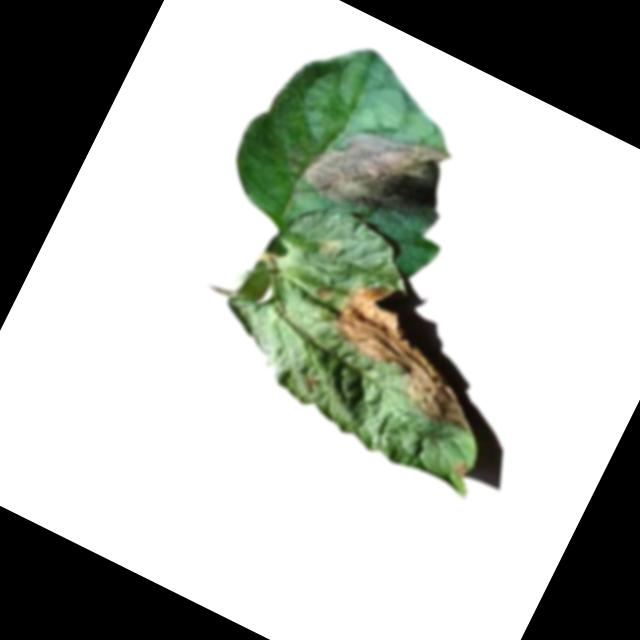Late_blight: (311, 269, 508, 437), (294, 96, 467, 249), (447, 455, 473, 482)
